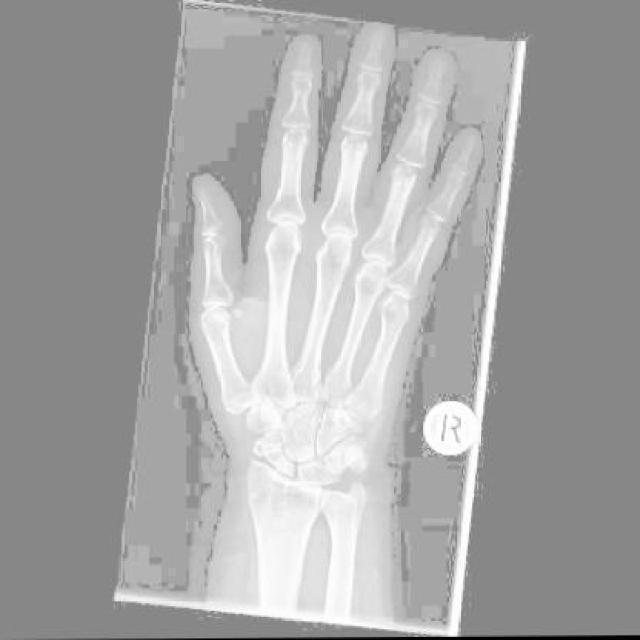bone: (252, 436, 280, 459)
